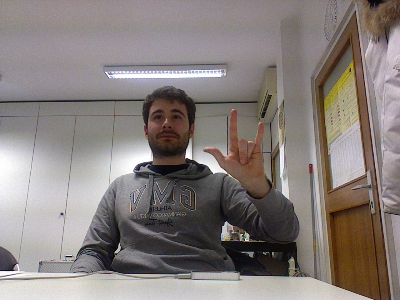我爱你: (200, 105, 268, 182)
